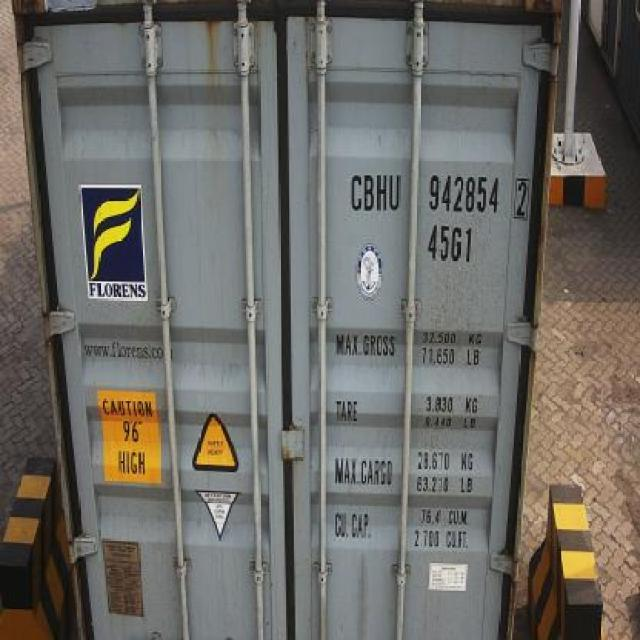ISO: (428, 223, 474, 259)
container_number: (361, 176, 514, 212)
